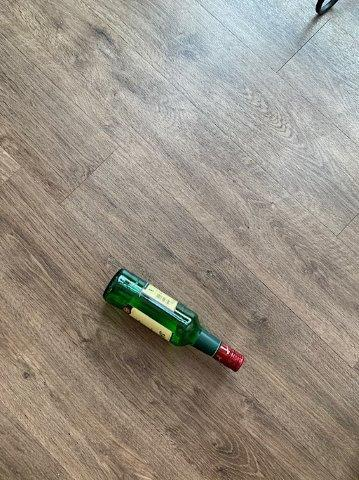botolkaca: (104, 269, 245, 372)
